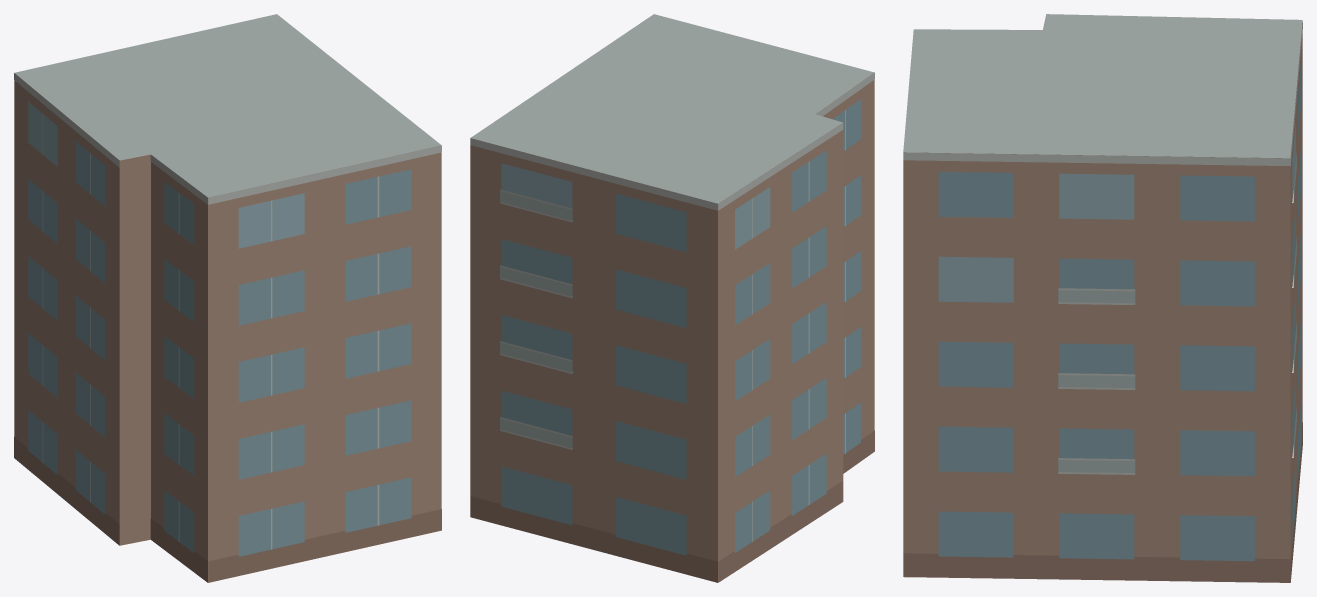
The model's file is survey-upis-32606852.glb.
The picture shows the model from 3 angles, left to right: view 1: azimuth 30°, elevation 25°; view 2: azimuth 150°, elevation 25°; view 3: azimuth 270°, elevation 25°; orthographic projection. The views are drawn at different scales.
Visible parts, largest first — view 1: survey-upis-32606852.tmp; view 2: survey-upis-32606852.tmp; view 3: survey-upis-32606852.tmp.
Boxes of the visible parts, x1,y1,x2,y2 form: survey-upis-32606852.tmp: [14, 14, 441, 582]; survey-upis-32606852.tmp: [470, 14, 874, 582]; survey-upis-32606852.tmp: [903, 14, 1302, 582].
Size of the model in its own units: 9.55 by 13.1 by 11.18.
